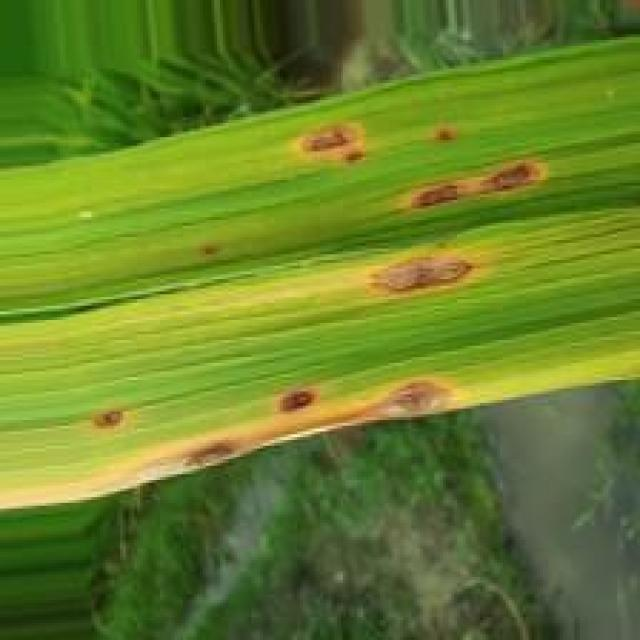Brown_Spot: (125, 370, 474, 485), (393, 157, 553, 211), (355, 253, 492, 302), (293, 114, 370, 172), (90, 399, 134, 440), (433, 125, 465, 146), (196, 239, 224, 261)
